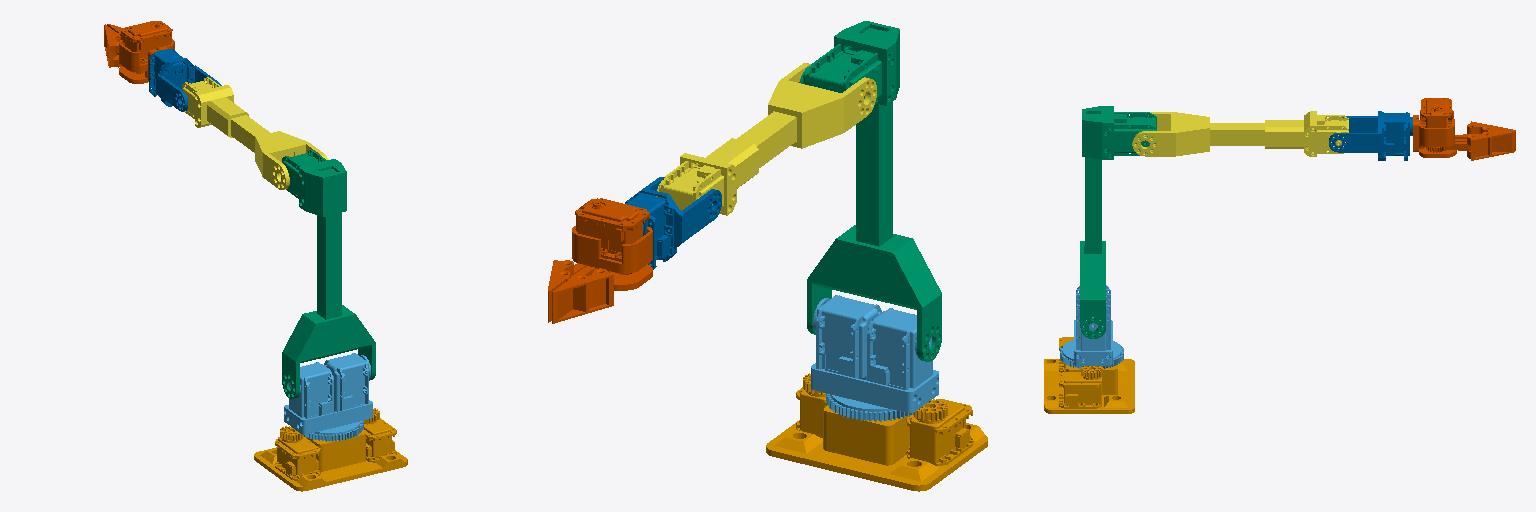
URDF robot description (assembly_urdf):
<?xml version="1.0" ?>
<robot name="assembly_urdf" xmlns:xacro="http://www.ros.org/wiki/xacro">


<link name="base_link">
  <inertial>
    <origin xyz="0.047999932163521164 -0.005129619158982985 -0.003911773006344198" rpy="0 0 0"/>
    <mass value="1.606512020498846"/>
    <inertia ixx="0.001172" iyy="0.003034" izz="0.003721" ixy="0.0" iyz="2.3e-05" ixz="0.0"/>
  </inertial>
  <visual>
    <origin xyz="0 0 0" rpy="0 0 0"/>
    <geometry>
      <mesh filename="base_link.stl" scale="0.001 0.001 0.001"/>
    </geometry>
    <material name="silver"/>
  </visual>
  <collision>
    <origin xyz="0 0 0" rpy="0 0 0"/>
    <geometry>
      <mesh filename="base_link.obj" scale="0.001 0.001 0.001"/>
    </geometry>
  </collision>
</link>

<link name="1st_link_1_1">
  <inertial>
    <origin xyz="-0.00016164725589624257 0.0012451840240565353 0.03492814681823998" rpy="0 0 0"/>
    <mass value="1.7302072074900647"/>
    <inertia ixx="0.001122" iyy="0.001917" izz="0.001281" ixy="-0.0" iyz="-1.6e-05" ixz="-1e-06"/>
  </inertial>
  <visual>
    <origin xyz="-0.048 -0.0 -0.018" rpy="0 0 0"/>
    <geometry>
      <mesh filename="1st_link_1_1.stl" scale="0.001 0.001 0.001"/>
    </geometry>
    <material name="silver"/>
  </visual>
  <collision>
    <origin xyz="-0.048 -0.0 -0.018" rpy="0 0 0"/>
    <geometry>
      <mesh filename="1st_link_1_1.obj" scale="0.001 0.001 0.001"/>
    </geometry>
  </collision>
</link>

<link name="2nd_link_1_1">
  <inertial>
    <origin xyz="-0.04568002698242451 0.011829646883106414 0.1397808496024999" rpy="0 0 0"/>
    <mass value="2.263407687399179"/>
    <inertia ixx="0.016591" iyy="0.016326" izz="0.00191" ixy="-1.3e-05" iyz="-0.002231" ixz="3.5e-05"/>
  </inertial>
  <visual>
    <origin xyz="-0.093648 -0.001554 -0.0812" rpy="0 0 0"/>
    <geometry>
      <mesh filename="2nd_link_1_1.stl" scale="0.001 0.001 0.001"/>
    </geometry>
    <material name="silver"/>
  </visual>
  <collision>
    <origin xyz="-0.093648 -0.001554 -0.0812" rpy="0 0 0"/>
    <geometry>
      <mesh filename="2nd_link_1_1.obj" scale="0.001 0.001 0.001"/>
    </geometry>
  </collision>
</link>

<link name="3rd_link_1_1">
  <inertial>
    <origin xyz="-0.023403353504647208 0.12243558310457182 -2.818962660522395e-07" rpy="0 0 0"/>
    <mass value="1.4022900327698062"/>
    <inertia ixx="0.007273" iyy="0.000314" izz="0.007398" ixy="-1.6e-05" iyz="-0.0" ixz="-0.0"/>
  </inertial>
  <visual>
    <origin xyz="-0.071648 -0.061654 -0.3041" rpy="0 0 0"/>
    <geometry>
      <mesh filename="3rd_link_1_1.stl" scale="0.001 0.001 0.001"/>
    </geometry>
    <material name="silver"/>
  </visual>
  <collision>
    <origin xyz="-0.071648 -0.061654 -0.3041" rpy="0 0 0"/>
    <geometry>
      <mesh filename="3rd_link_1_1.obj" scale="0.001 0.001 0.001"/>
    </geometry>
  </collision>
</link>

<link name="4th_link_1_1">
  <inertial>
    <origin xyz="-0.020500095081733005 0.05674528690423336 -0.0008307043317481999" rpy="0 0 0"/>
    <mass value="0.45912689139442114"/>
    <inertia ixx="0.000257" iyy="0.000142" izz="0.000254" ixy="-0.0" iyz="-2e-06" ixz="-0.0"/>
  </inertial>
  <visual>
    <origin xyz="-0.068648 -0.285254 -0.3041" rpy="0 0 0"/>
    <geometry>
      <mesh filename="4th_link_1_1.stl" scale="0.001 0.001 0.001"/>
    </geometry>
    <material name="silver"/>
  </visual>
  <collision>
    <origin xyz="-0.068648 -0.285254 -0.3041" rpy="0 0 0"/>
    <geometry>
      <mesh filename="4th_link_1_1.obj" scale="0.001 0.001 0.001"/>
    </geometry>
  </collision>
</link>

<link name="5th_link_1_1">
  <inertial>
    <origin xyz="0.0011702726131976385 0.03862175618756147 -0.005537904034870422" rpy="0 0 0"/>
    <mass value="0.8223086855058853"/>
    <inertia ixx="0.000765" iyy="0.000363" izz="0.000721" ixy="-1e-06" iyz="0.000129" ixz="3e-06"/>
  </inertial>
  <visual>
    <origin xyz="-0.048148 -0.370754 -0.3146" rpy="0 0 0"/>
    <geometry>
      <mesh filename="5th_link_1_1.stl" scale="0.001 0.001 0.001"/>
    </geometry>
    <material name="silver"/>
  </visual>
  <collision>
    <origin xyz="-0.048148 -0.370754 -0.3146" rpy="0 0 0"/>
    <geometry>
      <mesh filename="5th_link_1_1.obj" scale="0.001 0.001 0.001"/>
    </geometry>
  </collision>
</link>

<joint name="Revolute 1" type="continuous">
  <origin xyz="0.048 0.0 0.018" rpy="0 0 0"/>
  <parent link="base_link"/>
  <child link="1st_link_1_1"/>
  <axis xyz="0.0 0.0 -1.0"/>
</joint>

<joint name="Revolute 2" type="continuous">
  <origin xyz="0.045648 0.001554 0.0632" rpy="0 0 0"/>
  <parent link="1st_link_1_1"/>
  <child link="2nd_link_1_1"/>
  <axis xyz="1.0 0.0 0.0"/>
</joint>

<joint name="Revolute 3" type="continuous">
  <origin xyz="-0.022 0.0601 0.2229" rpy="0 0 0"/>
  <parent link="2nd_link_1_1"/>
  <child link="3rd_link_1_1"/>
  <axis xyz="1.0 0.0 -0.0"/>
</joint>

<joint name="Revolute 4" type="continuous">
  <origin xyz="-0.003 0.2236 0.0" rpy="0 0 0"/>
  <parent link="3rd_link_1_1"/>
  <child link="4th_link_1_1"/>
  <axis xyz="1.0 0.0 -0.0"/>
</joint>

<joint name="Revolute 5" type="continuous">
  <origin xyz="-0.0205 0.0855 0.0105" rpy="0 0 0"/>
  <parent link="4th_link_1_1"/>
  <child link="5th_link_1_1"/>
  <axis xyz="-0.0 1.0 -0.0"/>
</joint>

</robot>

--- What the picture shows (computed from the rendered views, not written in the file) ---
The picture shows the robot from 3 angles, left to right: view 1: azimuth 30°, elevation 25°; view 2: azimuth 150°, elevation 25°; view 3: azimuth 270°, elevation 25°; orthographic projection.
Model assembly_urdf with 6 links and 5 joints (5 continuous), rooted at base_link, posed every joint at zero.
Visible links, largest first — view 1: 2nd_link_1_1, base_link, 1st_link_1_1, 3rd_link_1_1, 5th_link_1_1, 4th_link_1_1; view 2: 2nd_link_1_1, base_link, 1st_link_1_1, 3rd_link_1_1, 5th_link_1_1, 4th_link_1_1; view 3: 2nd_link_1_1, 3rd_link_1_1, base_link, 5th_link_1_1, 4th_link_1_1, 1st_link_1_1.
Boxes of the visible links, bbox=[...] form: 2nd_link_1_1: bbox=[281, 150, 375, 399]; base_link: bbox=[254, 408, 407, 491]; 1st_link_1_1: bbox=[284, 353, 372, 441]; 3rd_link_1_1: bbox=[182, 77, 328, 189]; 5th_link_1_1: bbox=[104, 21, 174, 83]; 4th_link_1_1: bbox=[149, 49, 221, 111]; 2nd_link_1_1: bbox=[799, 21, 941, 361]; base_link: bbox=[766, 373, 987, 491]; 1st_link_1_1: bbox=[811, 295, 938, 421]; 3rd_link_1_1: bbox=[656, 63, 876, 215]; 5th_link_1_1: bbox=[548, 198, 652, 323]; 4th_link_1_1: bbox=[625, 177, 721, 269]; 2nd_link_1_1: bbox=[1080, 106, 1156, 338]; 3rd_link_1_1: bbox=[1132, 111, 1348, 156]; base_link: bbox=[1044, 337, 1134, 413]; 5th_link_1_1: bbox=[1413, 98, 1515, 160]; 4th_link_1_1: bbox=[1329, 111, 1412, 160]; 1st_link_1_1: bbox=[1060, 285, 1123, 368].
Bounding box of the posed robot: 0.1416 × 0.5446 × 0.3628 m (x, y, z).
Meshes: 6 distinct files referenced, 6 mesh visuals loaded (6 binary STL).